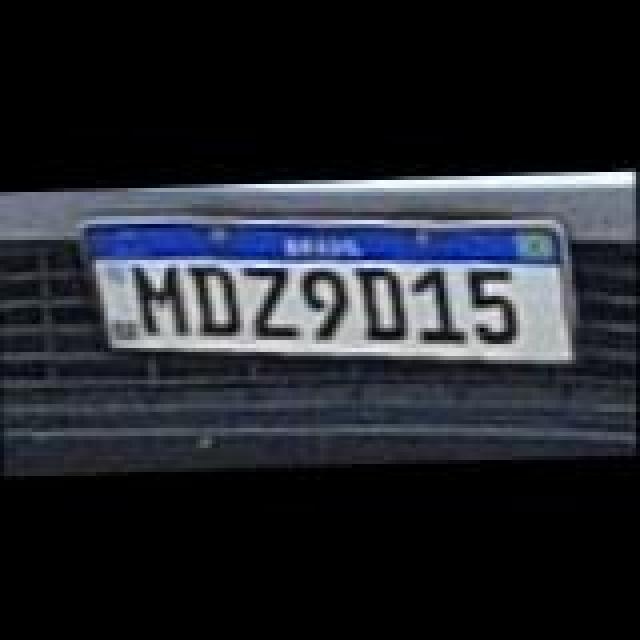1: (408, 266, 468, 342)
5: (464, 264, 524, 340)
9: (298, 264, 354, 336)
D: (350, 262, 414, 342), (188, 260, 248, 332)
M: (130, 258, 190, 330)
Z: (238, 258, 302, 338)
